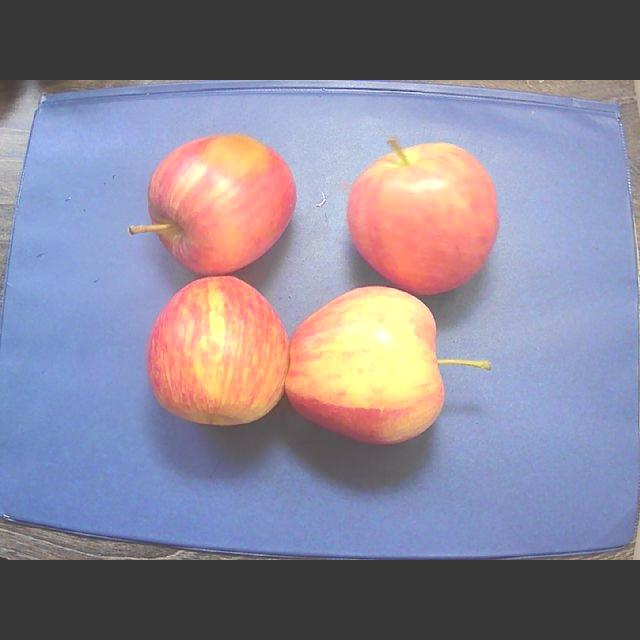manzana: (286, 287, 490, 443), (348, 136, 499, 294), (130, 133, 296, 273), (147, 276, 289, 425)
